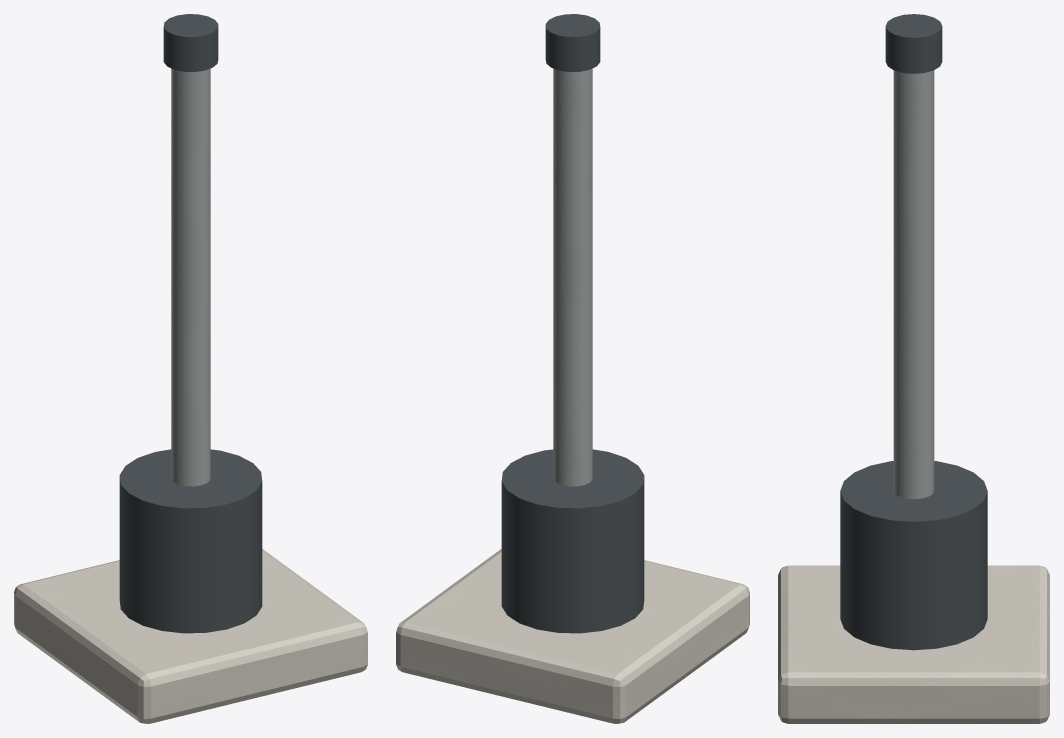
The model's file is rocket_external_antenna.glb.
3 renders of one model, left to right at view 1: azimuth 30°, elevation 25°; view 2: azimuth 150°, elevation 25°; view 3: azimuth 270°, elevation 25°, orthographic. The views are drawn at different scales.
Parts seen in each view (by area): view 1: BasePlate, AntennaBase, AntennaRod, Tip; view 2: BasePlate, AntennaBase, AntennaRod, Tip; view 3: BasePlate, AntennaBase, AntennaRod, Tip.
Boxes of the visible parts, x1,y1,x2,y2 form: BasePlate: (14,549,367,723); AntennaBase: (119,449,262,633); AntennaRod: (171,68,210,486); Tip: (163,14,218,71); BasePlate: (396,549,749,723); AntennaBase: (501,449,644,633); AntennaRod: (553,68,592,486); Tip: (545,14,600,71); BasePlate: (778,565,1049,723); AntennaBase: (840,461,987,650); AntennaRod: (893,70,934,499); Tip: (885,14,942,73).
Size of the model in its own units: 0.24 by 0.6275 by 0.24.
3 materials, 2 textured.
